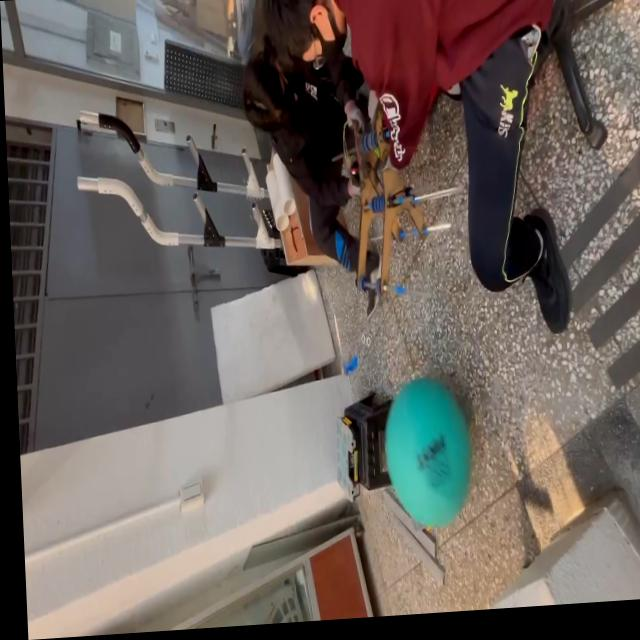ALGAE: (380, 373, 476, 533)
